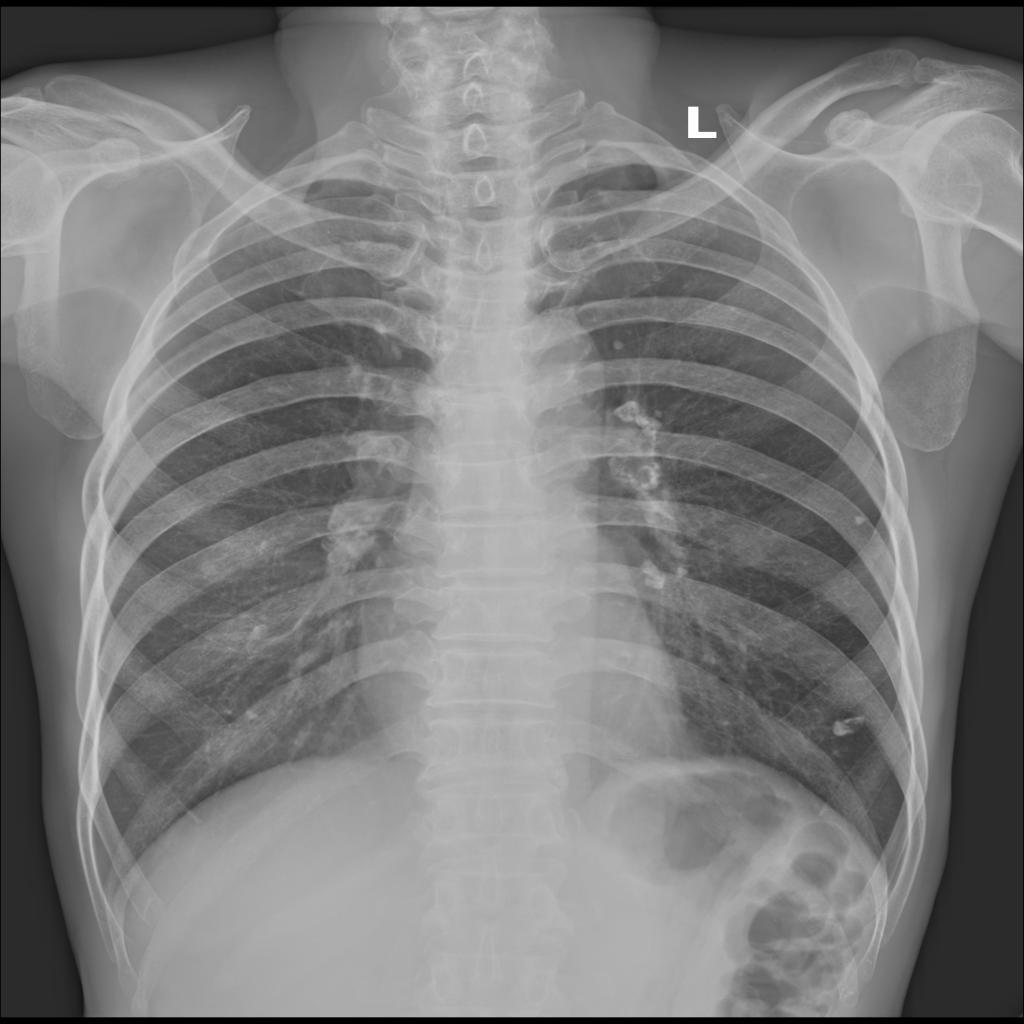Nodule: (857, 517, 869, 529)
